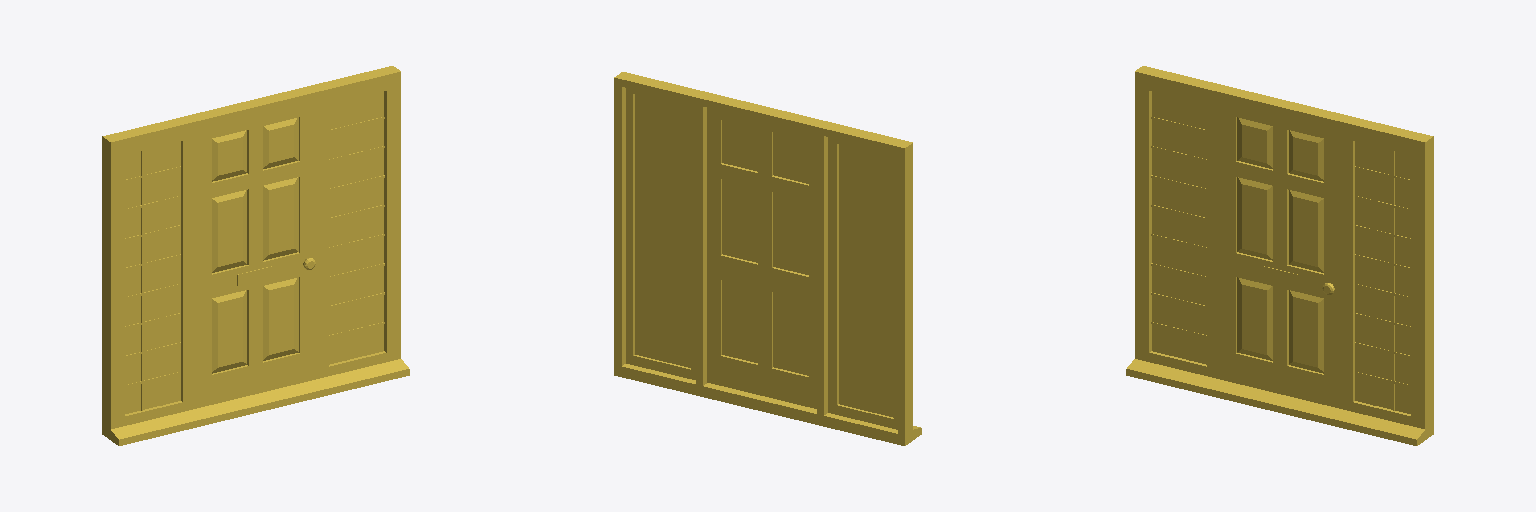
3 views of the same model, side by side, from view 1: azimuth 30°, elevation 25°; view 2: azimuth 150°, elevation 25°; view 3: azimuth 330°, elevation 25° (orthographic).
Visible parts, largest first — view 1: doorlights_dxf_001; view 2: doorlights_dxf_001; view 3: doorlights_dxf_001.
Boxes of the visible parts, box(x1,y1,x2,y2) form: doorlights_dxf_001: box(102, 66, 409, 445); doorlights_dxf_001: box(614, 72, 921, 445); doorlights_dxf_001: box(1126, 66, 1433, 445).
Bounding box in the file's own units: 2041 × 2000 × 200.